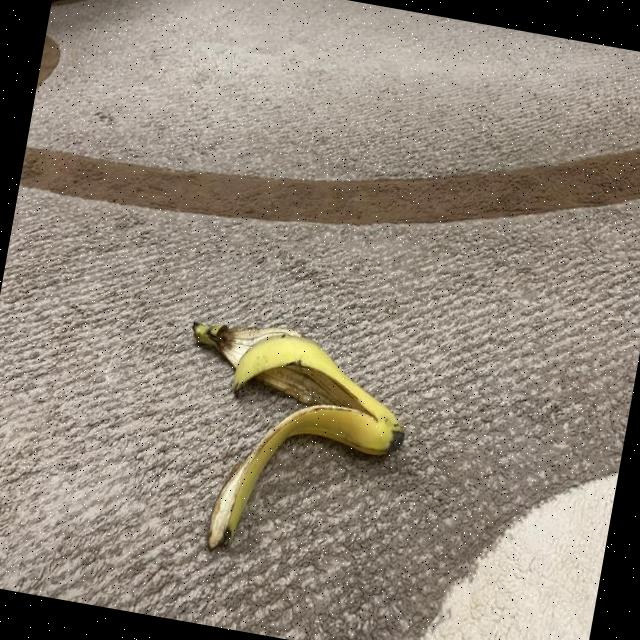banana-peel: (152, 310, 418, 579)
